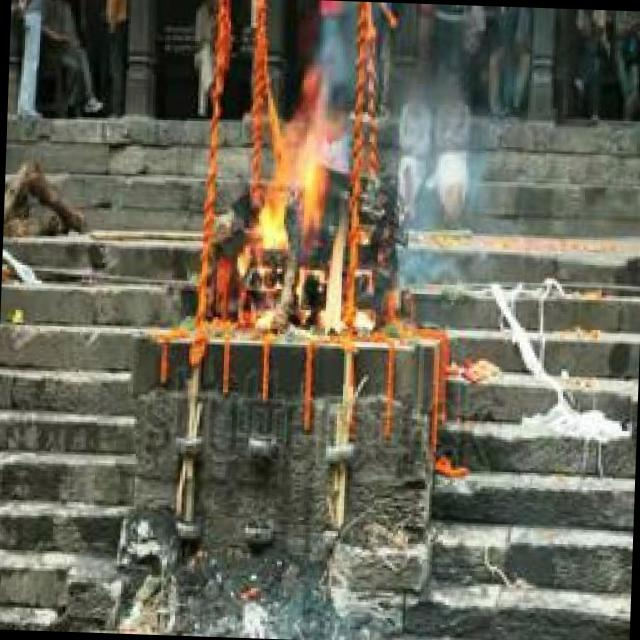Fire: (239, 90, 364, 340)
